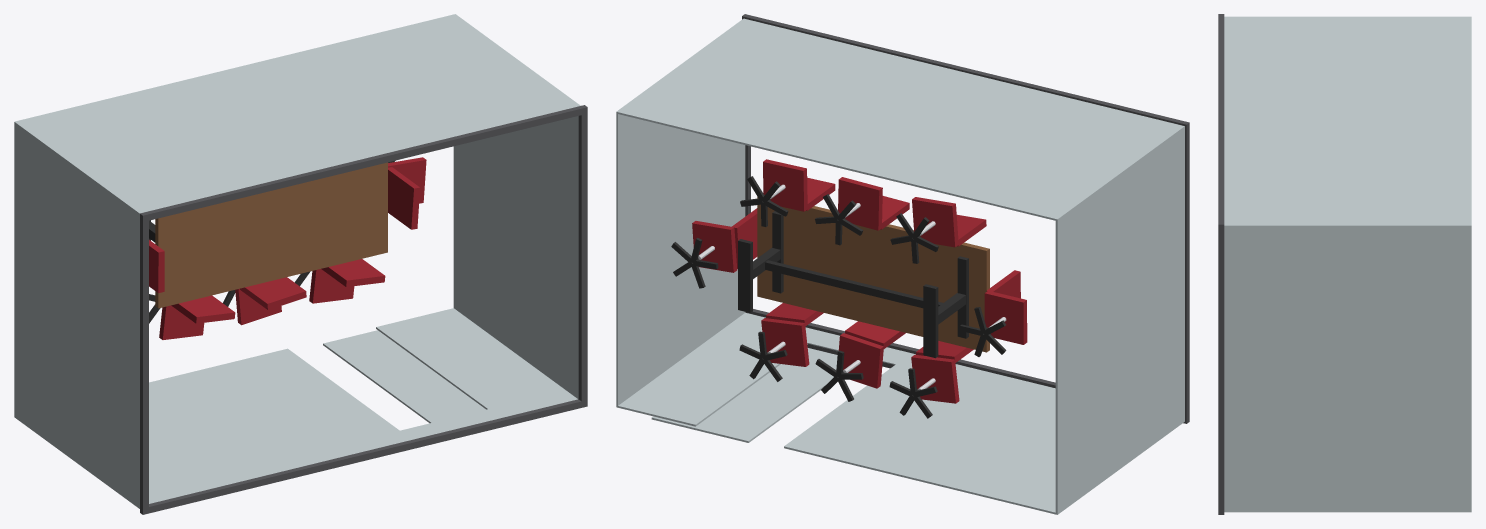
Rendered from glassroom_oasis.glb.
3 renders of one model, left to right at view 1: azimuth 30°, elevation 25°; view 2: azimuth 150°, elevation 25°; view 3: azimuth 270°, elevation 25°, orthographic. The views are drawn at different scales.
Parts seen in each view (by area): view 1: glass, wood, dark, red; view 2: glass, red, wood, black, dark, chrome; view 3: glass, dark.
Part boxes in pixels (x1,y1,x2,y2): glass: [14, 14, 580, 508]; wood: [155, 162, 387, 308]; dark: [140, 105, 587, 514]; red: [149, 157, 426, 339]; glass: [616, 18, 1184, 514]; red: [692, 159, 1027, 403]; wood: [757, 196, 989, 352]; black: [671, 176, 1006, 418]; dark: [742, 14, 1189, 423]; chrome: [698, 184, 1006, 390]; glass: [1224, 16, 1471, 512]; dark: [1218, 14, 1224, 514].
Size of the model in its own units: 5.04 by 3.26 by 2.56.
